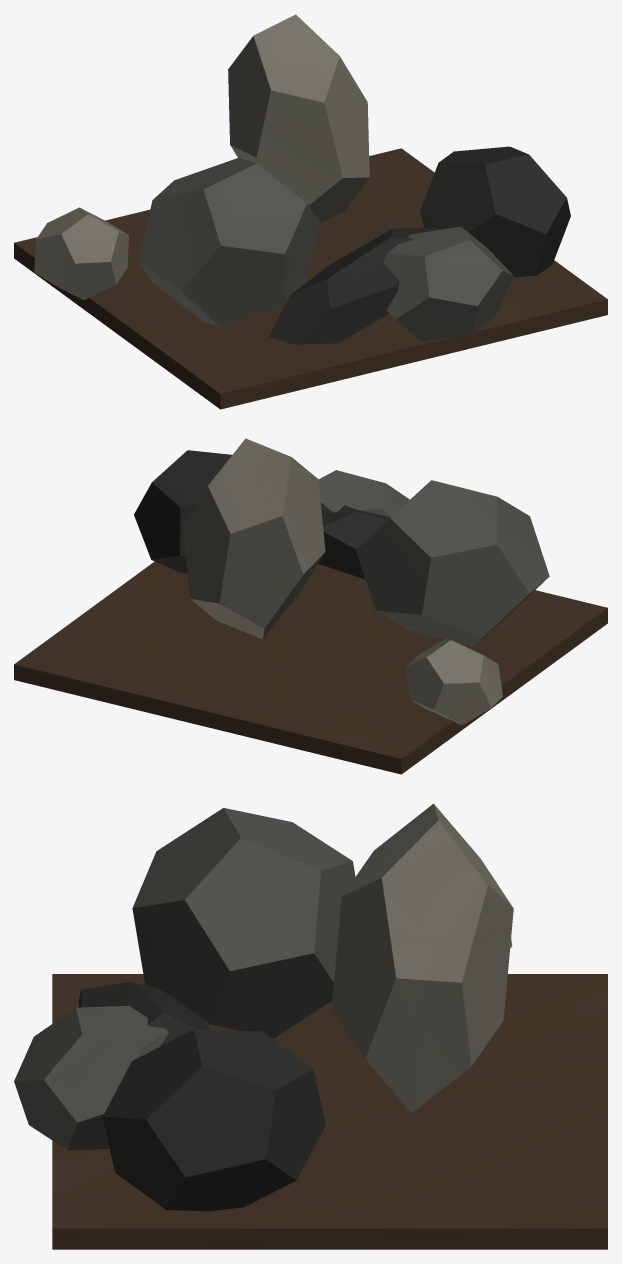
The model's file is sk-rubble-heap.glb.
3 views of the same model, one above another, from view 1: azimuth 30°, elevation 25°; view 2: azimuth 150°, elevation 25°; view 3: azimuth 270°, elevation 25° (orthographic). The views are drawn at different scales.
Parts seen in each view (by area): view 1: settlement:rubble_heap-static-stone (×3), rubble-dust; view 2: settlement:rubble_heap-static-stone (×3), rubble-dust; view 3: settlement:rubble_heap-static-stone (×3), rubble-dust.
Part boxes in pixels (bbox=[...]): settlement:rubble_heap-static-stone (×3): bbox=[34, 14, 570, 344]; rubble-dust: bbox=[14, 148, 607, 409]; settlement:rubble_heap-static-stone (×3): bbox=[134, 438, 549, 724]; rubble-dust: bbox=[14, 561, 607, 774]; settlement:rubble_heap-static-stone (×3): bbox=[14, 803, 513, 1211]; rubble-dust: bbox=[52, 974, 607, 1249].
Bounding box in the file's own units: 0.5835 × 0.3035 × 0.513.
Materials: 4 (4 with a texture image).
